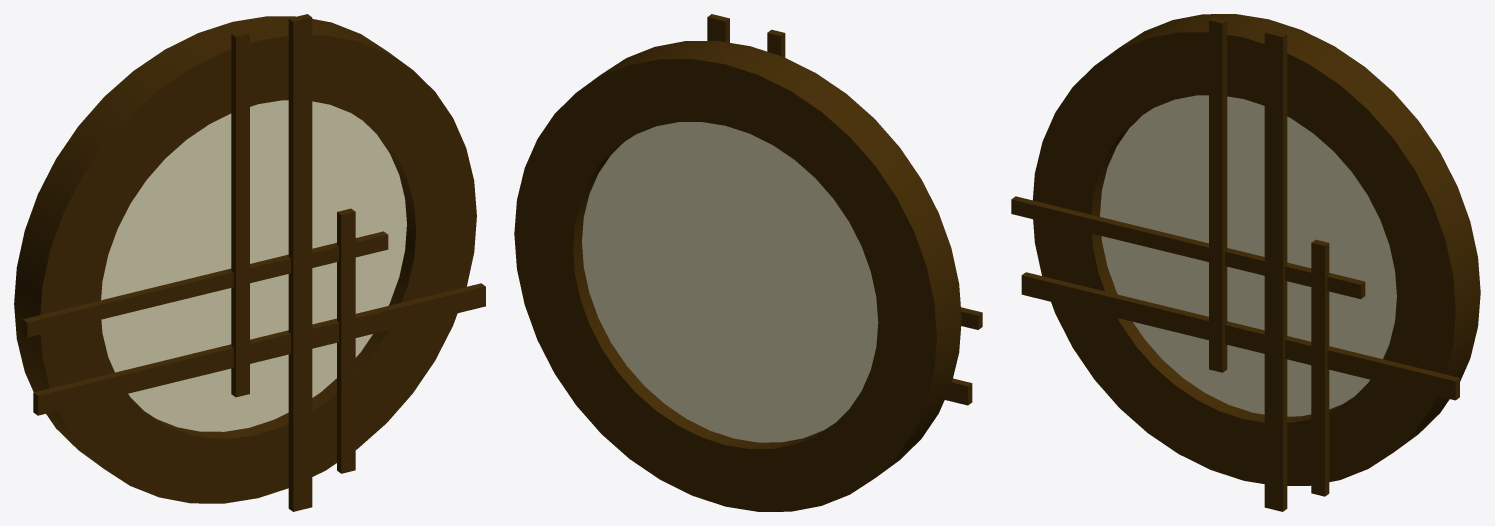
The model's file is shoji_window.fbx.
The picture shows the model from 3 angles, left to right: view 1: azimuth 30°, elevation 25°; view 2: azimuth 150°, elevation 25°; view 3: azimuth 330°, elevation 25°; orthographic projection. The views are drawn at different scales.
Parts seen in each view (by area): view 1: pCube7; view 2: pCube7; view 3: pCube7.
Part boxes in pixels (box(x1,y1,x2,y2)): pCube7: box(14, 14, 485, 511); pCube7: box(514, 14, 982, 511); pCube7: box(1011, 14, 1480, 511).
Bounding box in the file's own units: 2.07 × 2.11 × 0.2544.
